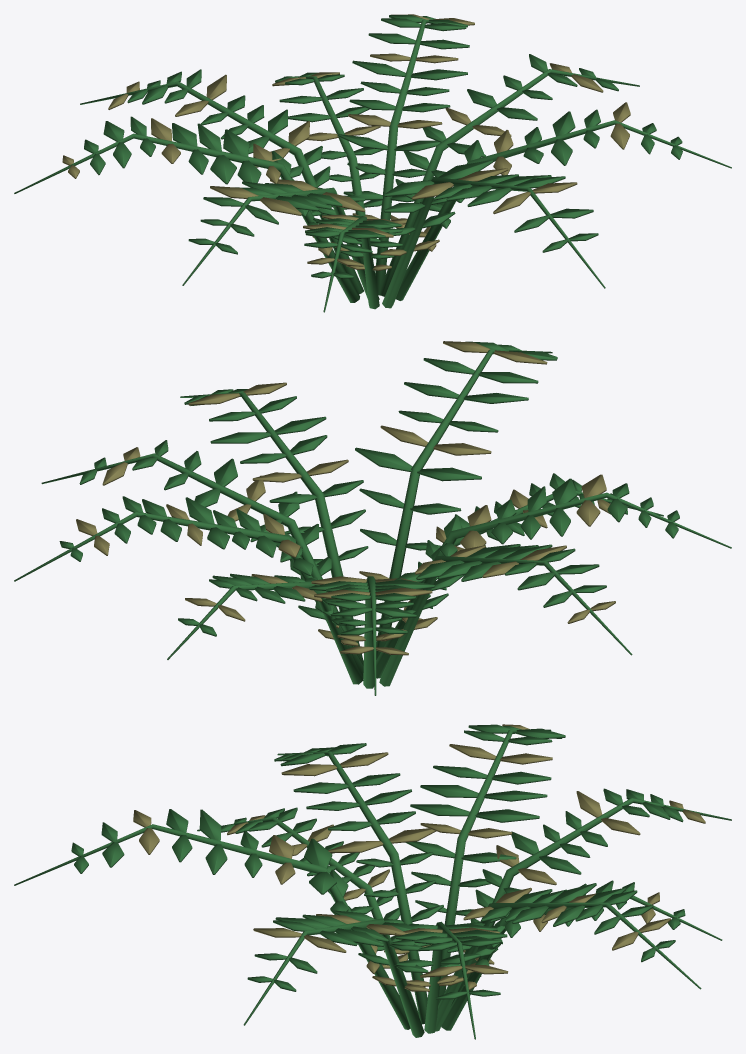
File: MSH_Fern_A.fbx
The picture shows the model from 3 angles, top to bottom: view 1: azimuth 30°, elevation 25°; view 2: azimuth 150°, elevation 25°; view 3: azimuth 270°, elevation 25°; orthographic projection. The views are drawn at different scales.
Parts seen in each view (by area): view 1: MSH_Fern_A_Fronds3D; view 2: MSH_Fern_A_Fronds3D; view 3: MSH_Fern_A_Fronds3D.
Boxes of the visible parts, x1=… form: MSH_Fern_A_Fronds3D: x1=14, y1=14, x2=731, y2=312; MSH_Fern_A_Fronds3D: x1=14, y1=341, x2=731, y2=695; MSH_Fern_A_Fronds3D: x1=14, y1=724, x2=731, y2=1039.
Size of the model in its own units: 1.6 by 0.5314 by 1.62.
